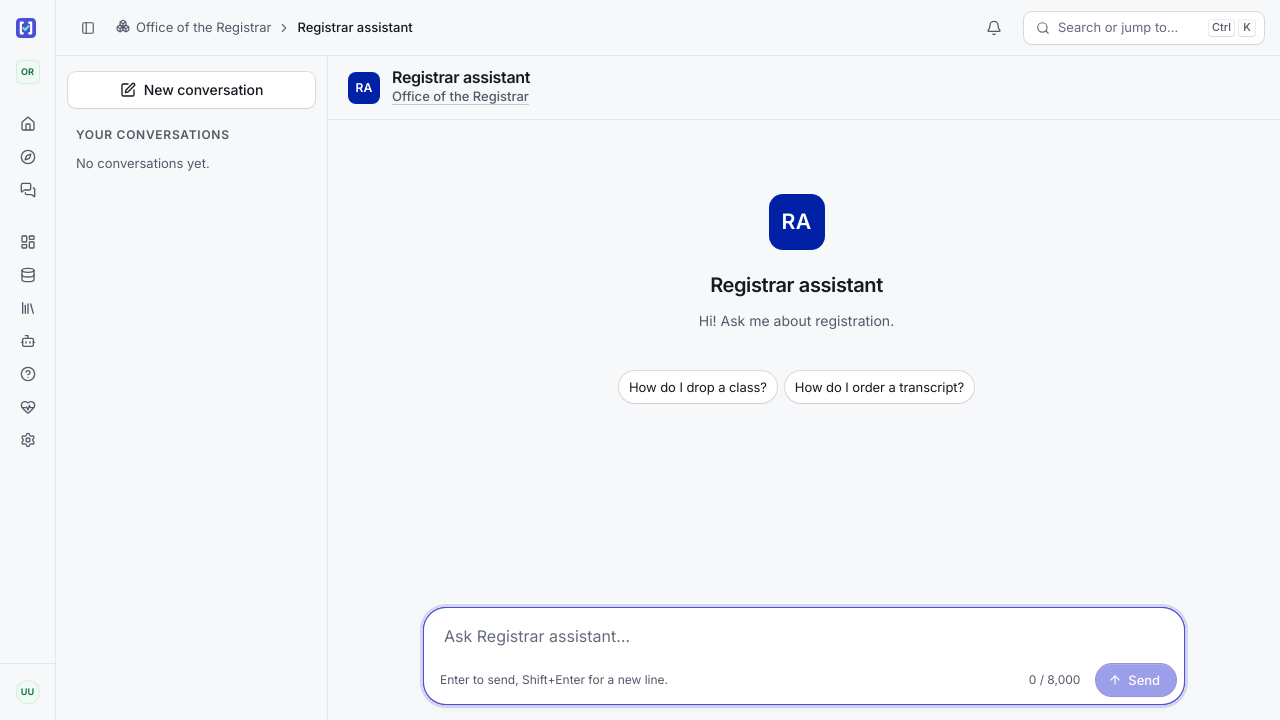
chat page › shows a withheld answer as an alert, without copy or rating buttons, and announces it as not answered (F-10)
This screenshot has width=1280, height=720.
Type "Hello?" into the text box named "Message Registrar assistant" at (804, 638), box top-left (432, 616), bottom-right (1176, 660)
Then press Enter
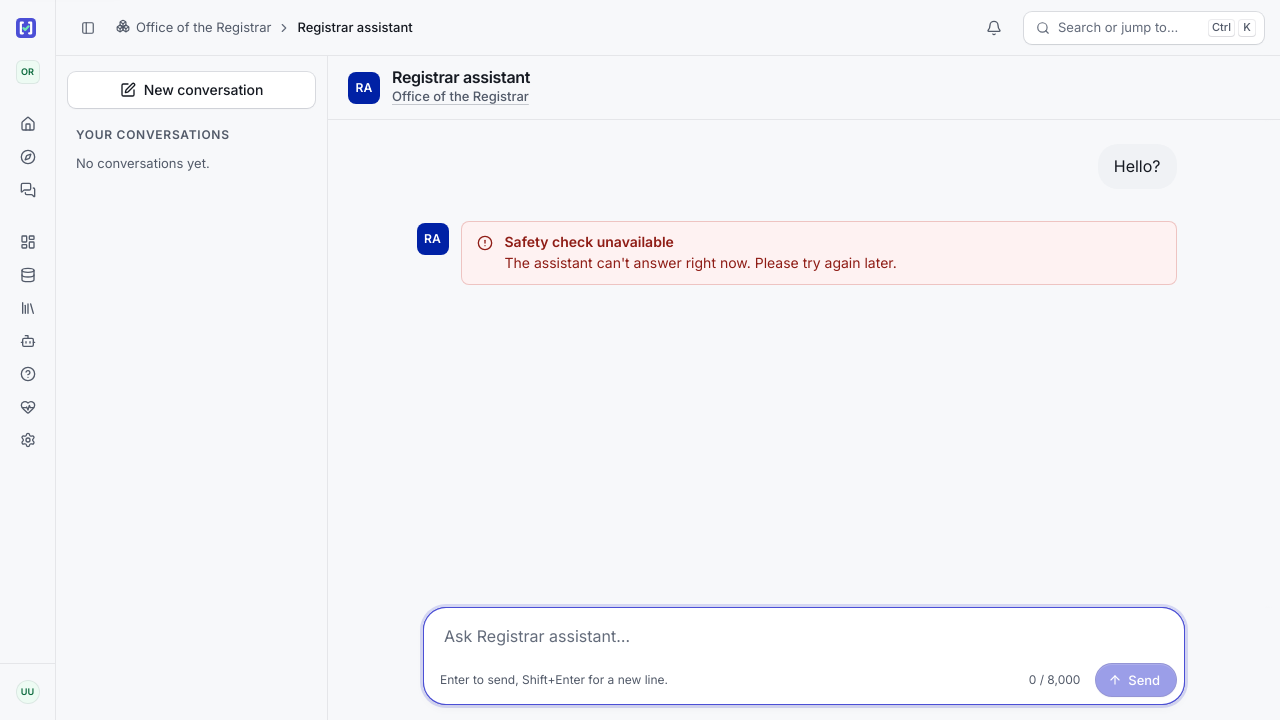
Check: the message shows "Safety check unavailable", box top-left (504, 233), bottom-right (674, 250)
Check: the message shows "The assistant can't answer right now. Please try again later.", box top-left (504, 254), bottom-right (897, 271)
